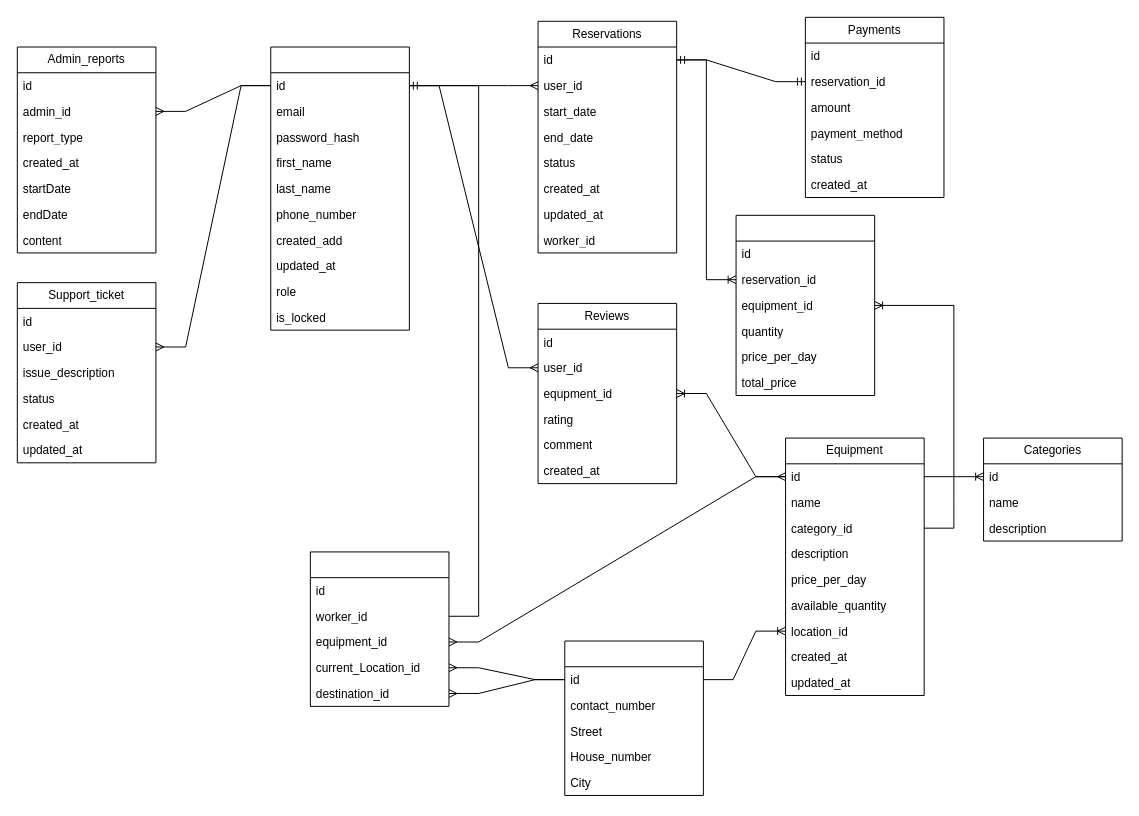
This 1139x816 diagram has some shape labels left out. The shapes that lost their labels are listed below. From the top down, each one's box as (x1, y1, x2, y2) in pixels, then its label:
(270, 46, 409, 330): Users
(735, 214, 875, 396): Reservation_items
(309, 551, 449, 706): EquipmentTransport
(564, 640, 703, 795): Location
